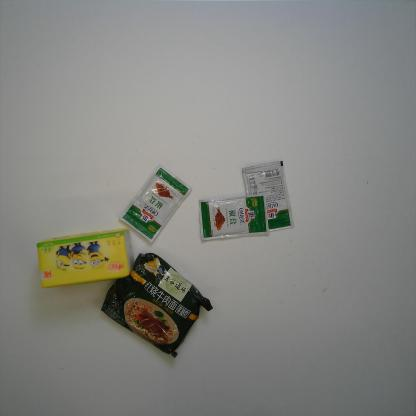Instant Noodles: (100, 252, 214, 359)
Seasoner: (119, 164, 193, 244), (241, 159, 295, 233), (197, 193, 270, 240)
Tissue: (36, 227, 134, 290)
